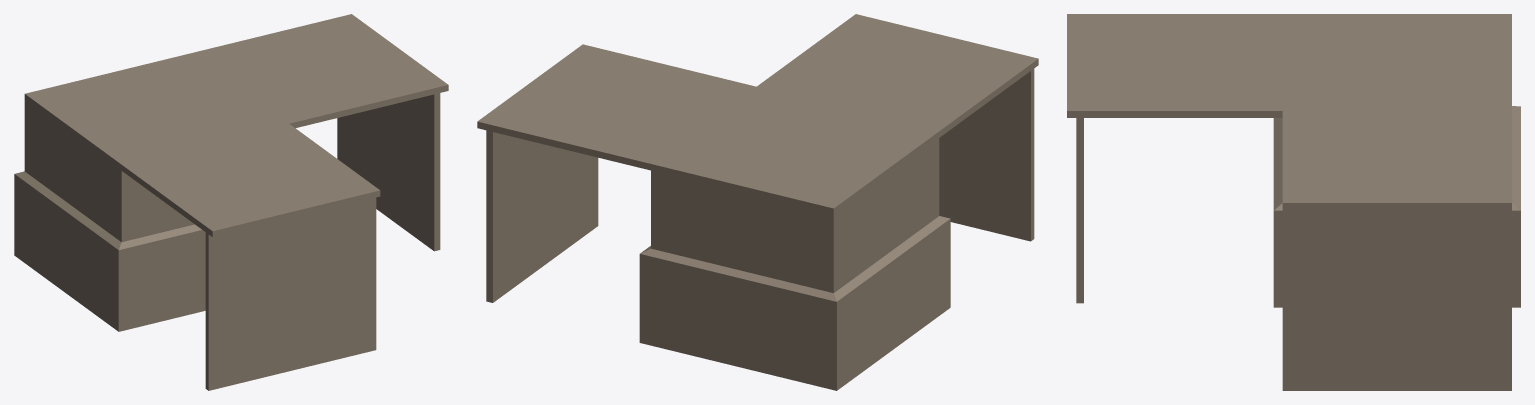
File: LightTable2.fbx
The picture shows the model from 3 angles, left to right: view 1: azimuth 30°, elevation 25°; view 2: azimuth 150°, elevation 25°; view 3: azimuth 270°, elevation 25°; orthographic projection. The views are drawn at different scales.
Visible parts, largest first — view 1: Cube.065; view 2: Cube.065; view 3: Cube.065.
Boxes of the visible parts, x1,y1,x2,y2 form: Cube.065: [14, 14, 448, 390]; Cube.065: [477, 14, 1038, 390]; Cube.065: [1067, 14, 1520, 390].
Bounding box in the file's own units: 398 × 186 × 396.
